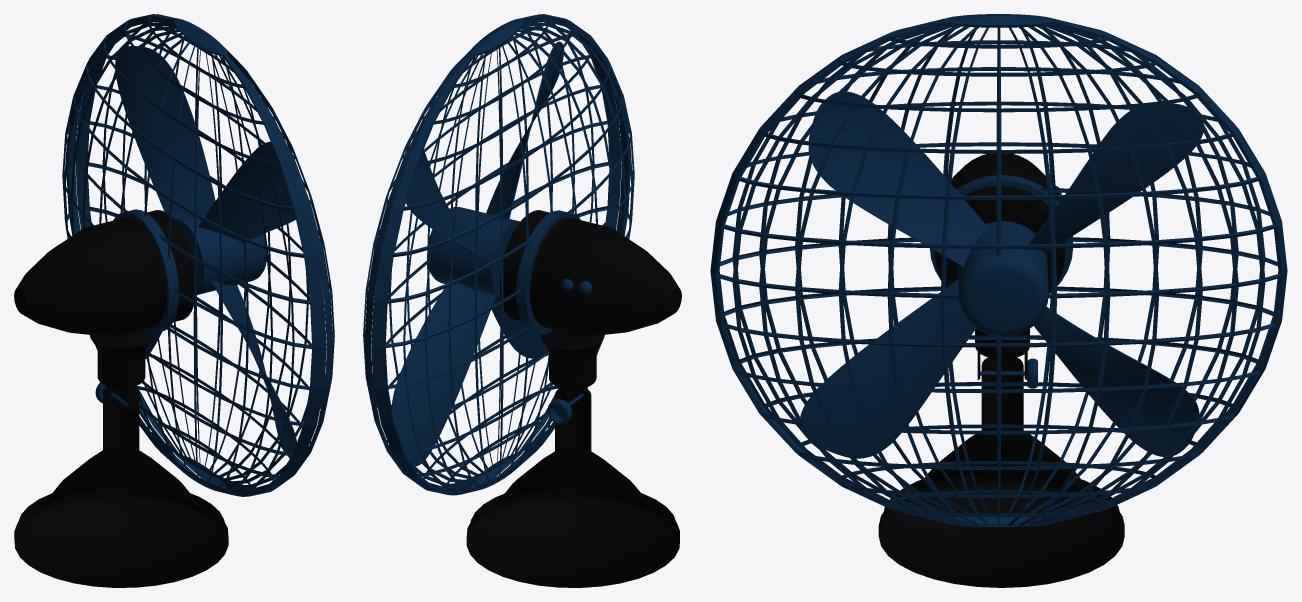
File: fan.fbx
3 renders of one model, left to right at view 1: azimuth 30°, elevation 25°; view 2: azimuth 150°, elevation 25°; view 3: azimuth 270°, elevation 25°, orthographic. The views are drawn at different scales.
Parts seen in each view (by area): view 1: Sphere.001, Plane.004; view 2: Sphere.001, Plane.004; view 3: Sphere.001, Plane.004.
Boxes of the visible parts, x1,y1,x2,y2 form: Sphere.001: (14,14,334,587); Plane.004: (115,46,296,456); Sphere.001: (363,14,681,587); Plane.004: (391,41,564,466); Sphere.001: (710,14,1287,587); Plane.004: (800,91,1203,458).
Size of the model in its own units: 283 by 573 by 530.
